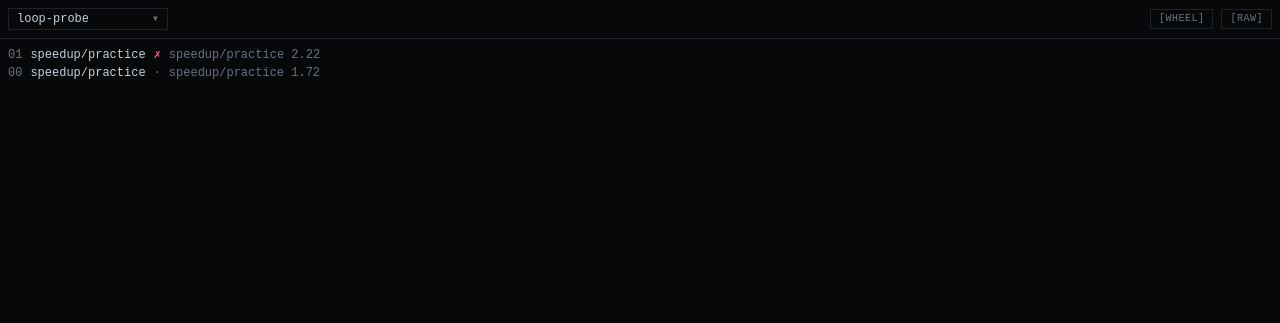
Scenario: FlywheelPane round detail — per-problem rows › does not render one loop's hint beside another loop's round of the same index
The image size is (1280, 323).
Click the button "01 speedup/practice ✗ speedup/practice 2.22" at coordinates (88, 55), box [8,47,1272,63]
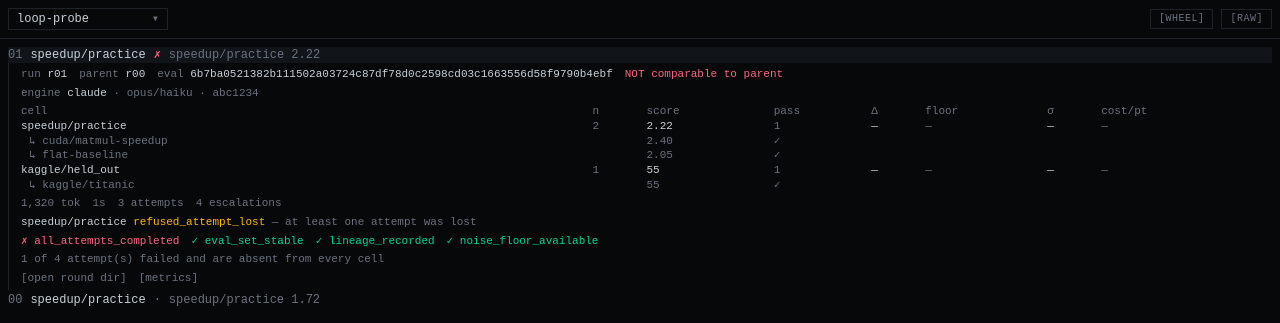
Expected: the text "NOT comparable to parent" is shown, [625,67,783,82]
Click the button "[metrics]" at coordinates (168, 278), box [139,271,198,286]
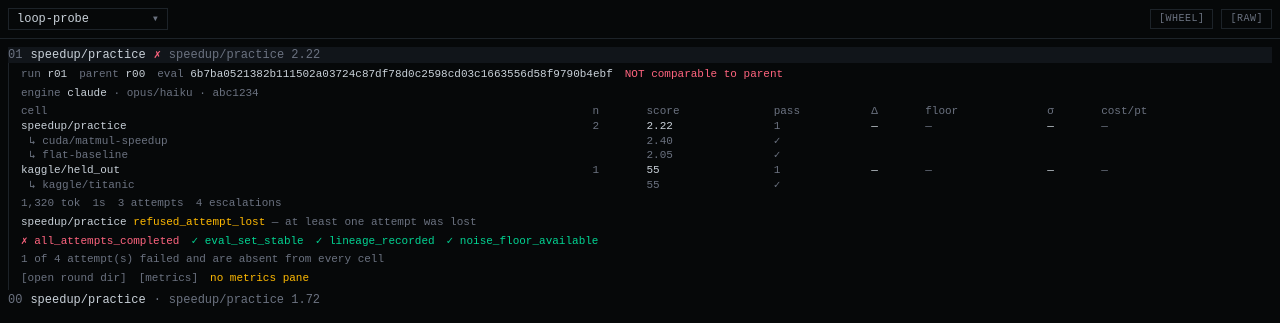
Expected: the text "no metrics pane" is shown, [210,271,309,286]
Click the button with aria-label "loop: " at coordinates (88, 19), box [8,8,168,30]
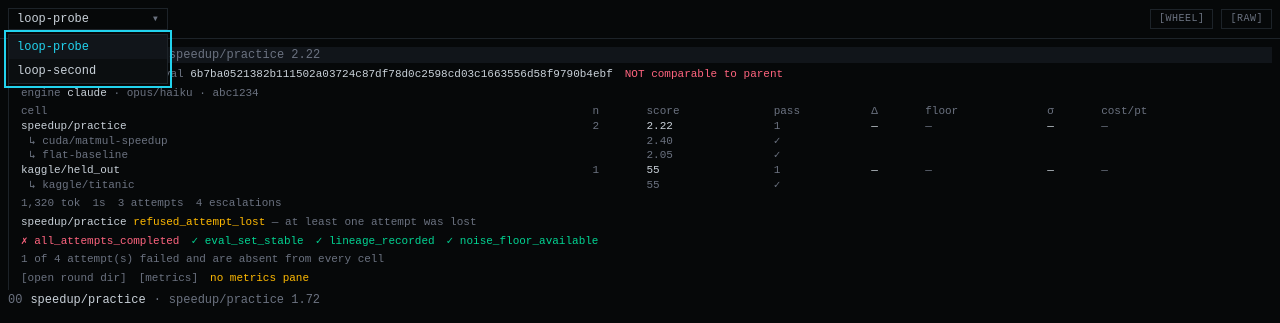
Click the option "loop-second" at coordinates (88, 71), box [9,59,167,83]
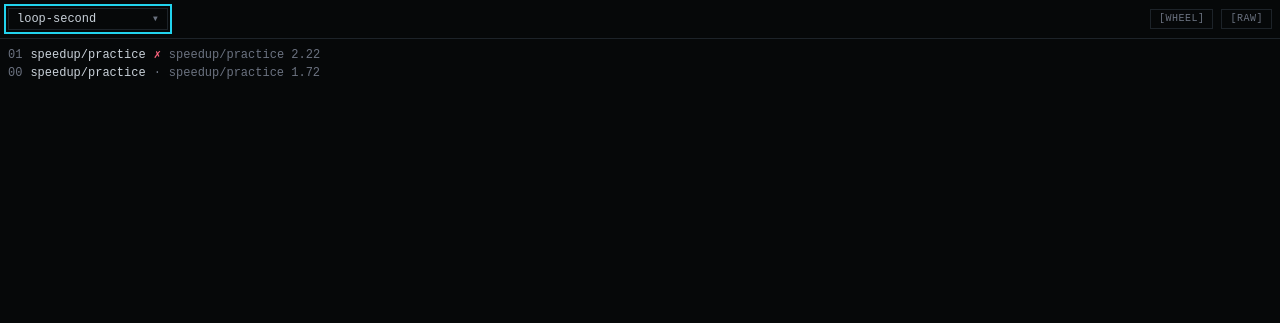
Click the button "01 speedup/practice ✗ speedup/practice 2.22" at coordinates (88, 55), box [8,47,1272,63]
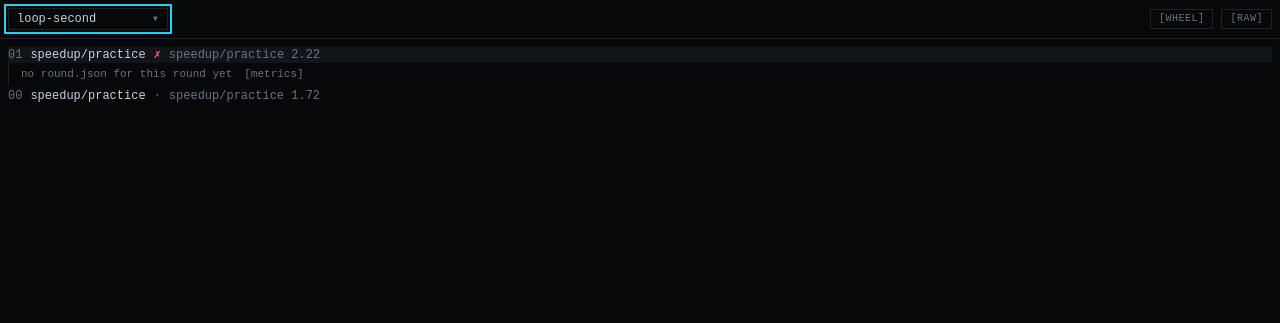
Expected: the text "no round.json for this round yet" is shown, [21,67,232,82]
